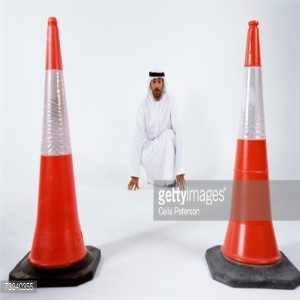traffic cone: (205, 19, 300, 289), (9, 16, 101, 288)
